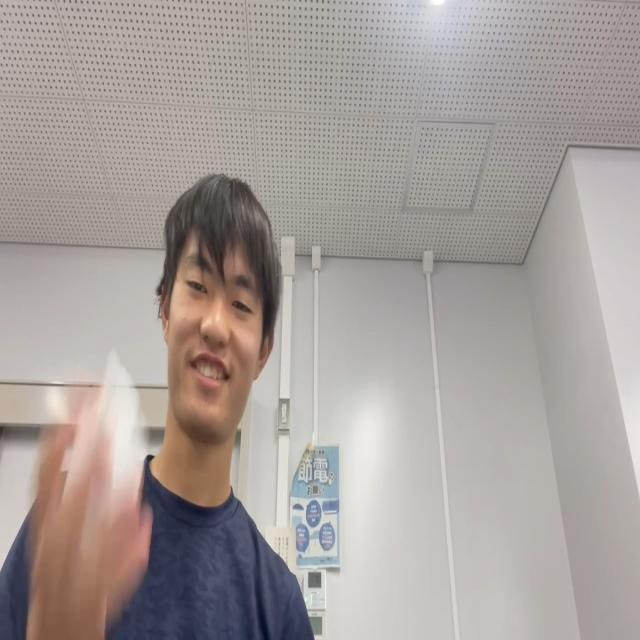paper: (46, 362, 153, 520)
